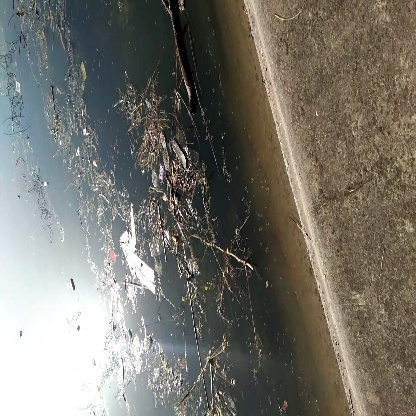plastic-bag: (111, 217, 163, 297)
